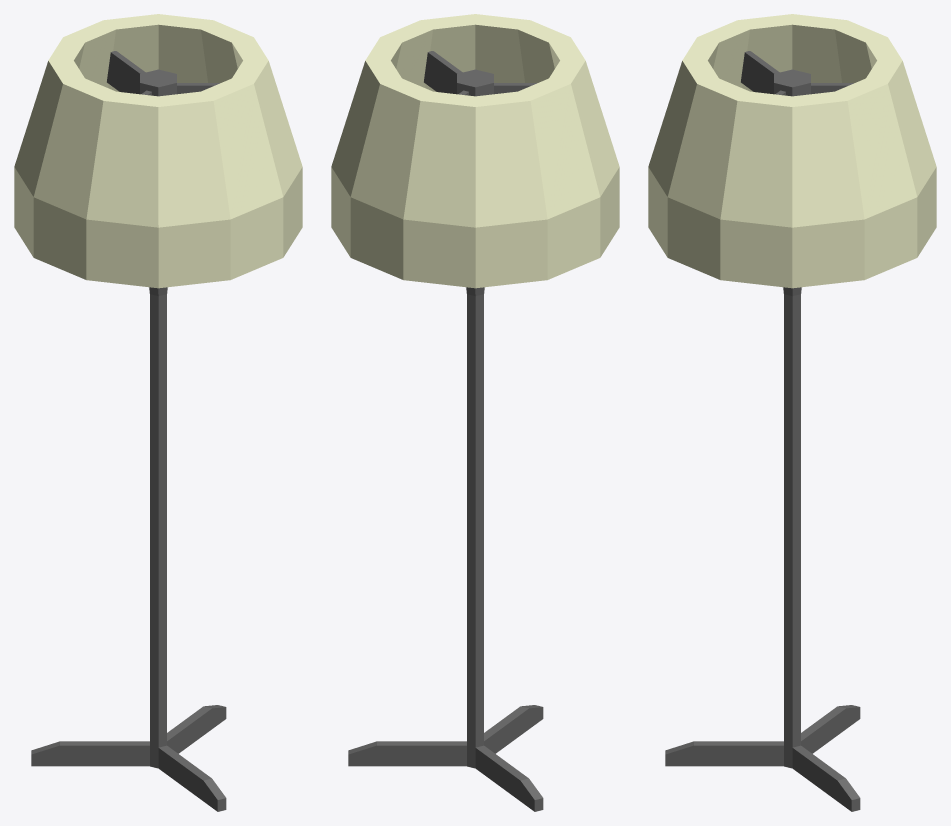
The model's file is lamp.fbx.
3 views of the same model, side by side, from view 1: azimuth 30°, elevation 25°; view 2: azimuth 150°, elevation 25°; view 3: azimuth 270°, elevation 25° (orthographic).
Parts seen in each view (by area): view 1: pPipe1, pCylinder1; view 2: pPipe1, pCylinder1; view 3: pPipe1, pCylinder1.
Part boxes in pixels (x1,y1,x2,y2): pPipe1: [14, 14, 302, 288]; pCylinder1: [31, 51, 226, 811]; pPipe1: [331, 14, 619, 288]; pCylinder1: [348, 51, 543, 811]; pPipe1: [648, 14, 936, 288]; pCylinder1: [665, 51, 860, 811].
Size of the model in its own units: 5.61 by 15.11 by 5.61.
